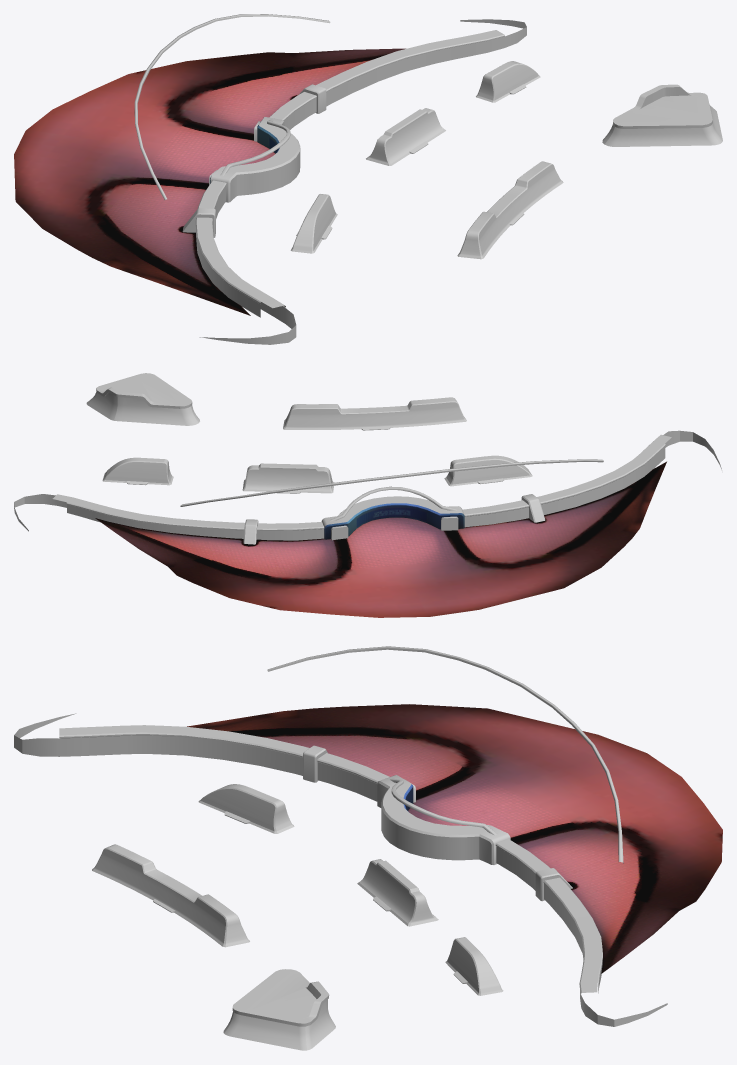
The model's file is pref_sm_beach_bk_downblock_R02_lv2.fbx.
The picture shows the model from 3 angles, top to bottom: view 1: azimuth 30°, elevation 25°; view 2: azimuth 150°, elevation 25°; view 3: azimuth 270°, elevation 25°; orthographic projection. The views are drawn at different scales.
Parts seen in each view (by area): view 1: sm_beach_bk_downblock_R02e_lv2, sm_beach_bk_downblock_R02a_lv2, sm_beach_bk_downblock_R02c_lv2, sm_beach_bk_downblock_R02b_lv2; view 2: sm_beach_bk_downblock_R02e_lv2, sm_beach_bk_downblock_R02a_lv2, sm_beach_bk_downblock_R02c_lv2, sm_beach_bk_downblock_R02b_lv2, sm_beach_bk_downblock_R02d_lv2; view 3: sm_beach_bk_downblock_R02e_lv2, sm_beach_bk_downblock_R02a_lv2, sm_beach_bk_downblock_R02c_lv2, sm_beach_bk_downblock_R02b_lv2.
Part boxes in pixels (x1,y1,x2,y2): sm_beach_bk_downblock_R02e_lv2: (14,48,405,315); sm_beach_bk_downblock_R02a_lv2: (290,61,722,259); sm_beach_bk_downblock_R02c_lv2: (195,19,526,344); sm_beach_bk_downblock_R02b_lv2: (134,14,330,237); sm_beach_bk_downblock_R02e_lv2: (95,461,666,617); sm_beach_bk_downblock_R02a_lv2: (86,373,532,493); sm_beach_bk_downblock_R02c_lv2: (14,430,721,540); sm_beach_bk_downblock_R02b_lv2: (180,459,603,544); sm_beach_bk_downblock_R02d_lv2: (324,503,464,539); sm_beach_bk_downblock_R02e_lv2: (187,704,722,973); sm_beach_bk_downblock_R02a_lv2: (92,784,503,1050); sm_beach_bk_downblock_R02c_lv2: (14,713,667,1026); sm_beach_bk_downblock_R02b_lv2: (267,646,623,901).
Bounding box in the file's own units: 50.16 × 8.28 × 43.43.
